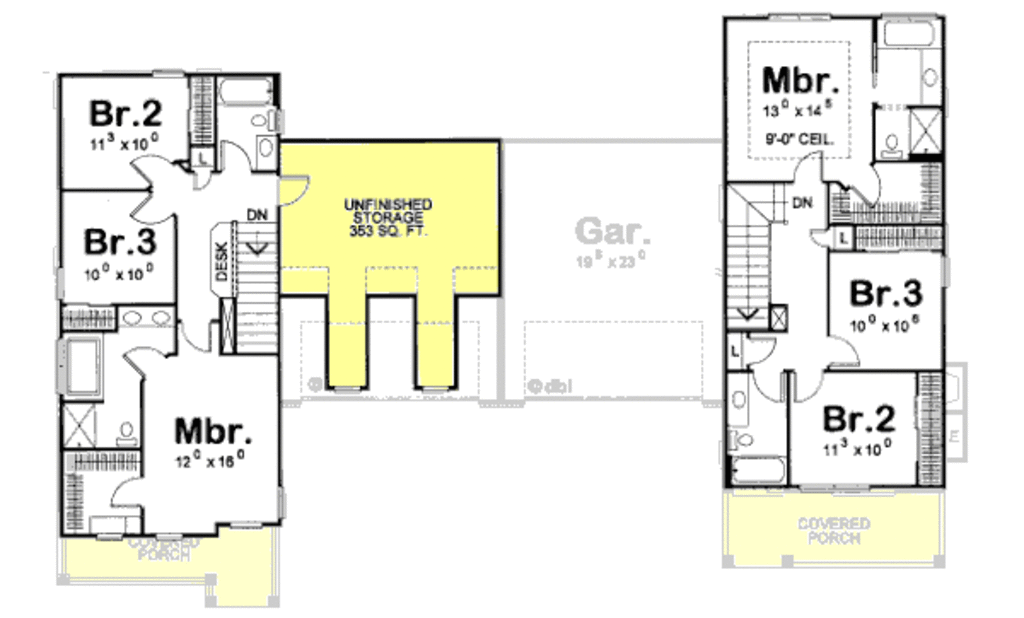door: (122, 143, 179, 183), (844, 161, 887, 214), (126, 183, 174, 228), (122, 339, 166, 381), (177, 314, 215, 358), (790, 360, 824, 409), (751, 365, 789, 405), (107, 469, 147, 506), (828, 331, 868, 368), (791, 145, 827, 186), (744, 328, 777, 367), (274, 172, 309, 207), (217, 137, 249, 171), (807, 222, 839, 252)
large_sink: (246, 106, 287, 130), (116, 413, 144, 445), (879, 127, 906, 158), (728, 425, 758, 452)
small_sink: (922, 47, 947, 104), (728, 368, 752, 426), (116, 305, 171, 329), (260, 135, 280, 172)
stairs: (718, 180, 797, 333), (219, 220, 279, 350)
tub: (59, 329, 103, 399), (211, 68, 275, 104), (872, 18, 945, 49), (732, 451, 783, 487)
window: (767, 3, 837, 27), (801, 480, 874, 495), (224, 512, 272, 533), (932, 252, 953, 292), (324, 379, 368, 397), (409, 379, 455, 395), (49, 79, 68, 111), (92, 528, 129, 542), (153, 529, 185, 545), (152, 66, 183, 82)
